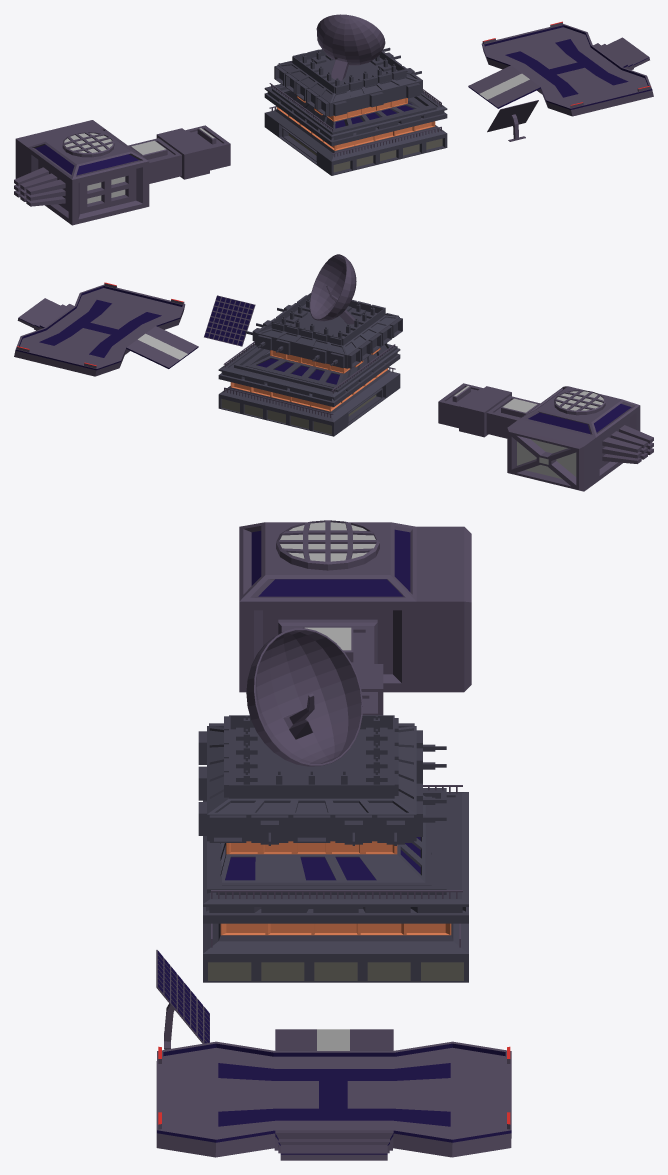
Rendered from naychka.fbx.
3 renders of one model, top to bottom at view 1: azimuth 30°, elevation 25°; view 2: azimuth 150°, elevation 25°; view 3: azimuth 270°, elevation 25°, orthographic. The views are drawn at different scales.
Visible parts, largest first — view 1: Cube, Cube.003, Plane, Sphere, Plane.001, Cube.001; view 2: Cube, Cube.003, Plane, Sphere, Plane.001, Cube.001, Cube.002; view 3: Cube, Plane, Cube.003, Sphere, Plane.001, Cube.002.
Part boxes in pixels (x1,y1,x2,y2): Cube: [264, 47, 447, 175]; Cube.003: [14, 120, 230, 225]; Plane: [468, 21, 653, 116]; Sphere: [316, 14, 385, 80]; Plane.001: [487, 100, 538, 141]; Cube.001: [269, 106, 441, 157]; Cube: [218, 293, 402, 436]; Cube.003: [438, 383, 653, 491]; Plane: [14, 282, 198, 376]; Sphere: [309, 254, 356, 324]; Plane.001: [204, 295, 255, 346]; Cube.001: [224, 367, 395, 417]; Cube.002: [223, 341, 395, 393]; Cube: [198, 715, 468, 982]; Plane: [156, 1029, 511, 1160]; Cube.003: [239, 520, 471, 715]; Sphere: [246, 628, 362, 766]; Plane.001: [156, 950, 209, 1049]; Cube.002: [211, 785, 462, 898].
Size of the model in its own units: 3195 by 683 by 802.
